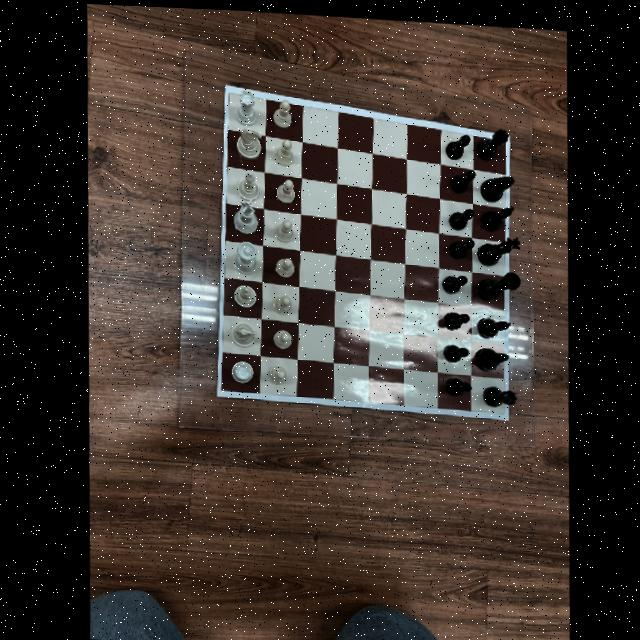chessboard-corner: (210, 389, 217, 397), (501, 408, 508, 416), (219, 78, 228, 83), (504, 124, 510, 129)
